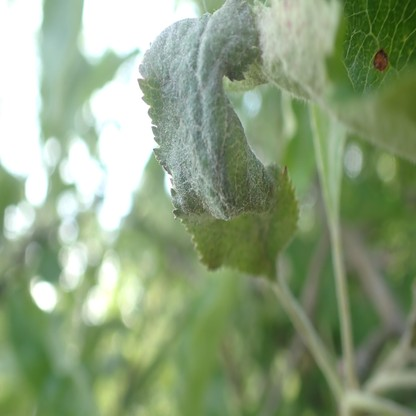frogeye_leaf_spot: (374, 50, 389, 69)
powdery_mildew: (137, 0, 275, 220), (253, 0, 340, 97)
